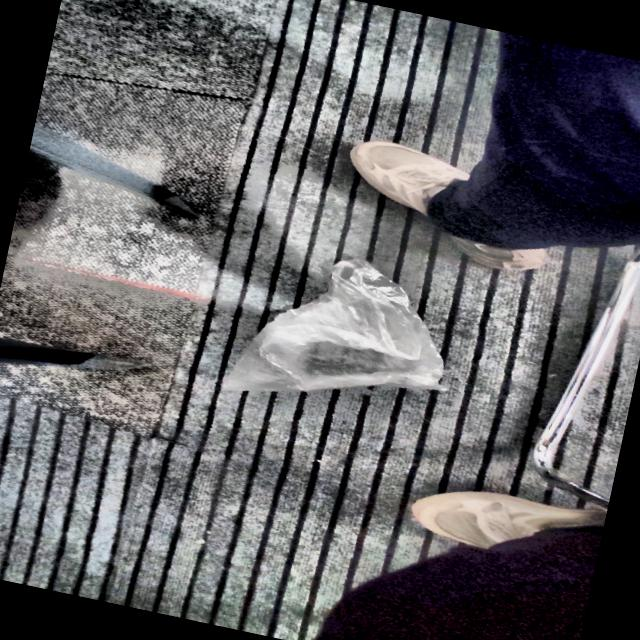plastic bag: (223, 259, 444, 391)
